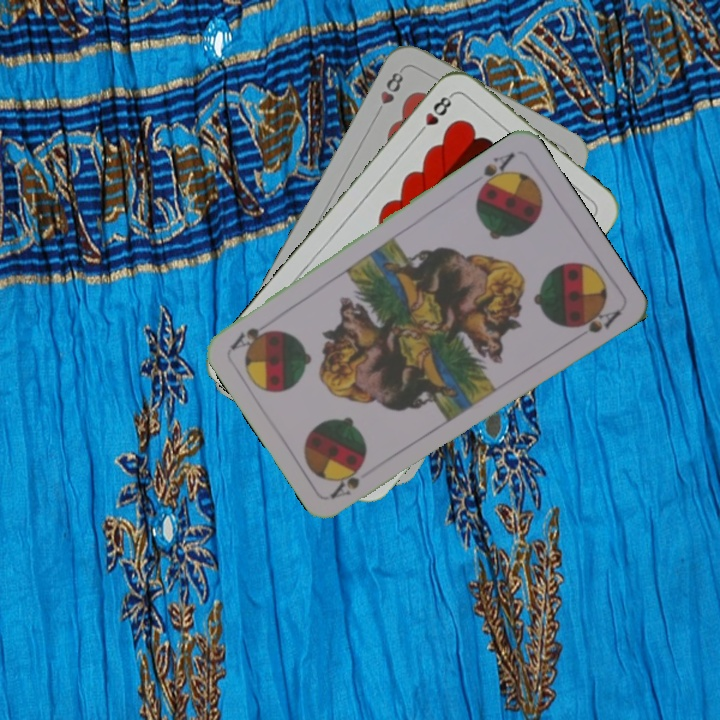H8: (413, 90, 456, 139), (371, 68, 406, 119)
SA: (467, 148, 517, 195), (326, 466, 362, 501)
